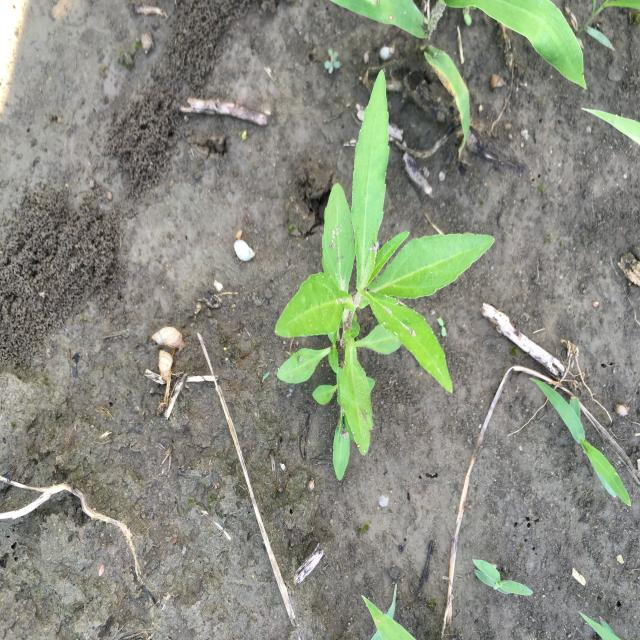Eclipta: (272, 66, 498, 485)
